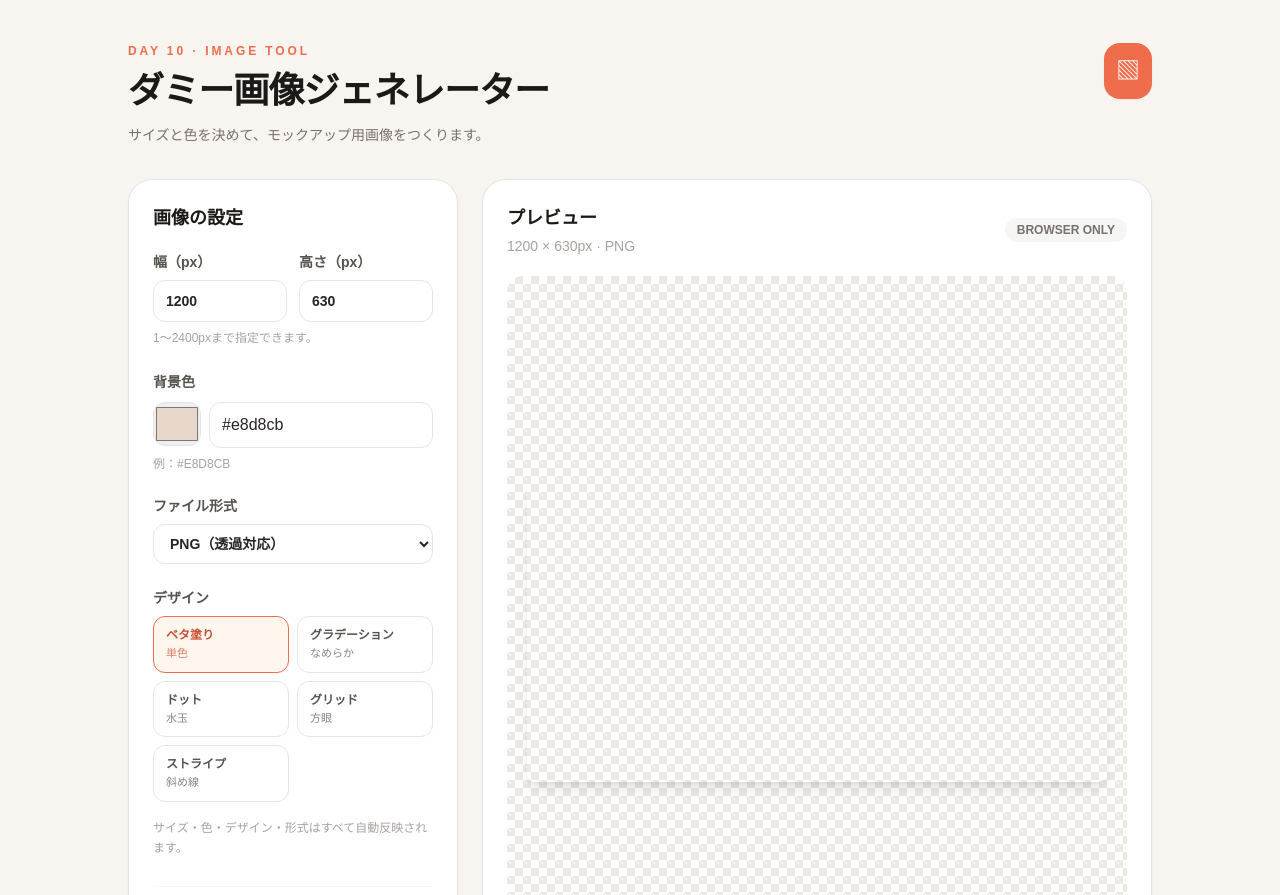
DummyImageGenerator › 不正なカラーコードは生成を止めて知らせる
This screenshot has width=1280, height=895.
Replace the text in the field labelled "背景色" with "blue" at x=321, y=425, box [209, 402, 433, 448]
(page scrolled)
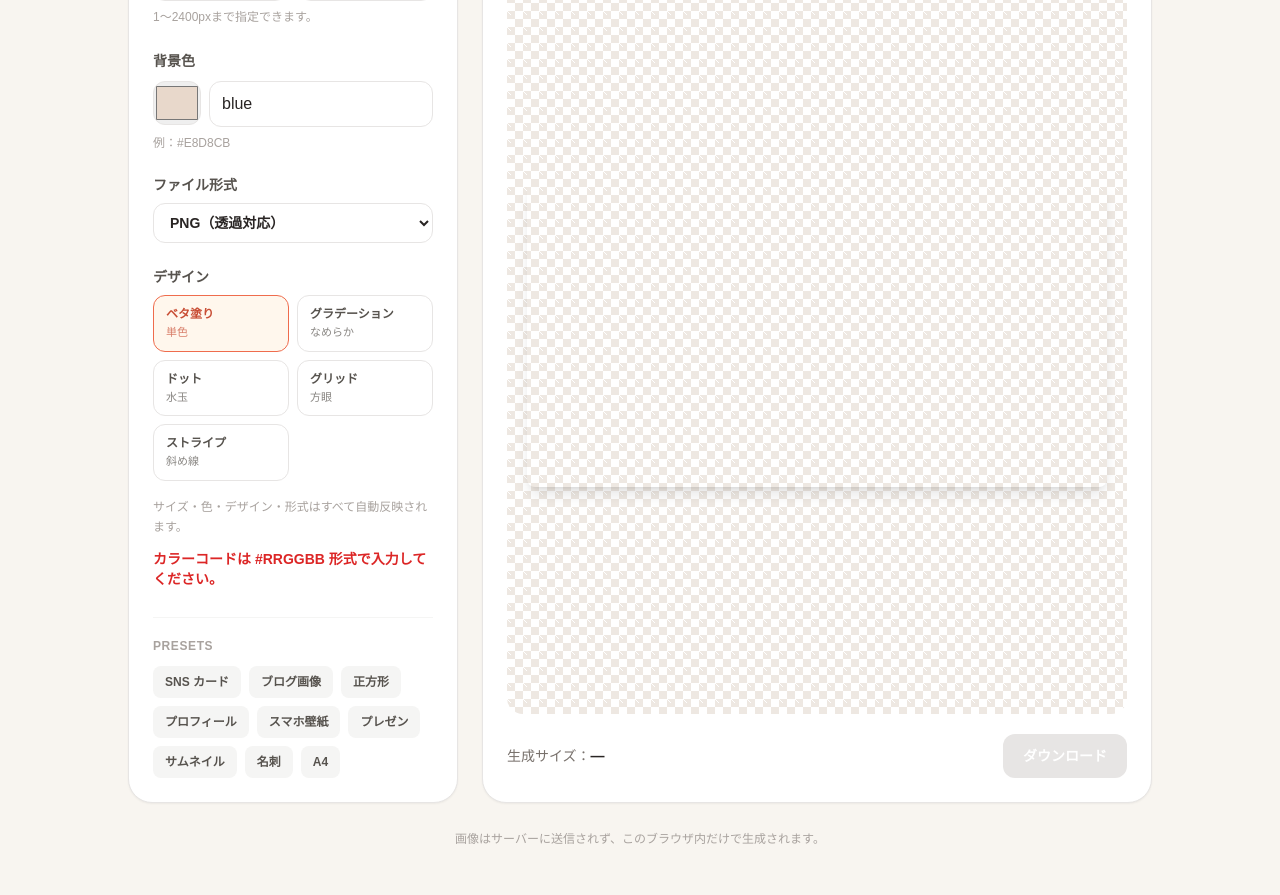
Check: the message shows "#RRGGBB", box [153, 550, 426, 586]
